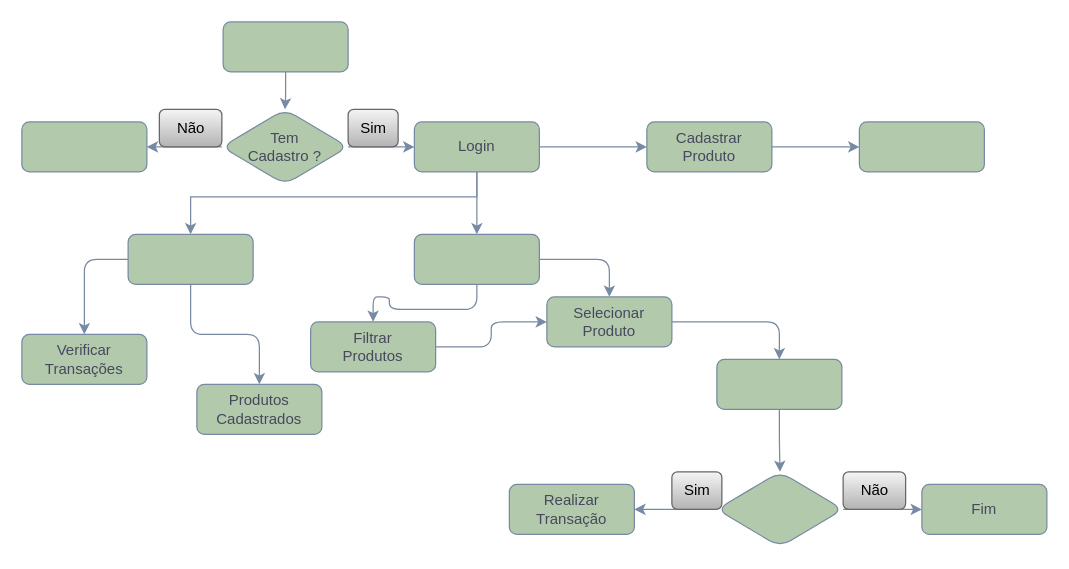
Some shapes in this 1069 by 569 pixel diagram are drawn without their labels. Here are the shapes that lost their labels. From the top down, the centre of each, then its label:
At [285,46]: "Inicio".
At [84,146]: "Cadastrar Companhia".
At [921,146]: "Processar Cadastro".
At [190,258]: "Dashboard".
At [476,258]: "Verificar Produtos".
At [779,383]: "Comprar Produto".
At [779,509]: "Produto Disponivel ?".
